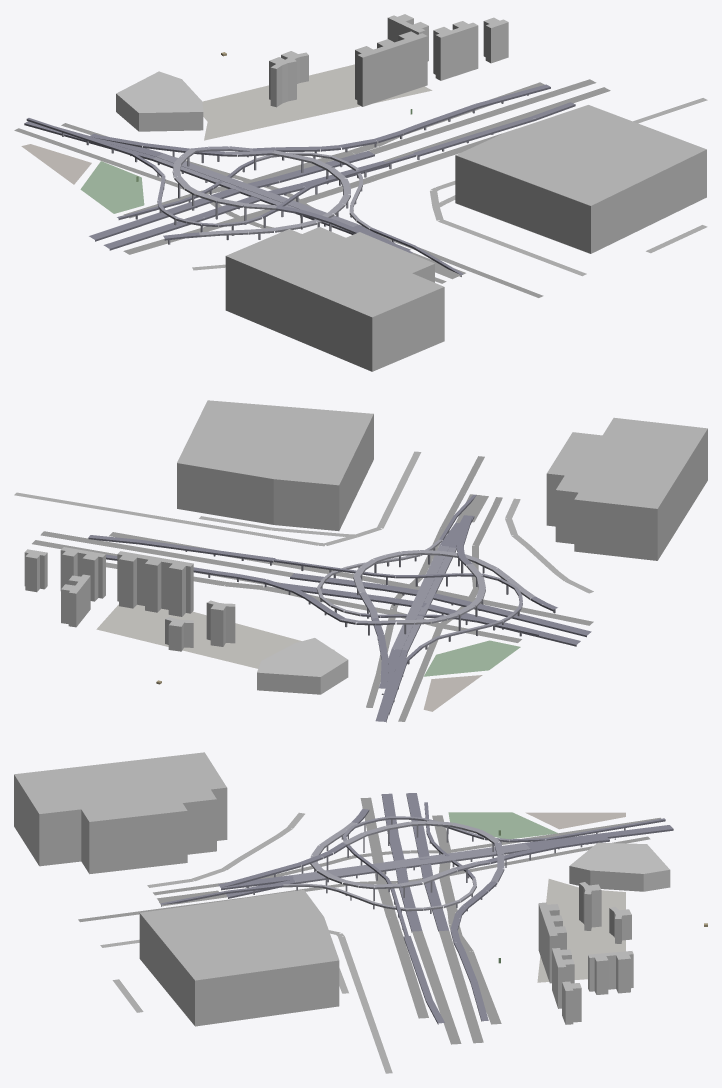
The picture shows the model from 3 angles, top to bottom: view 1: azimuth 30°, elevation 25°; view 2: azimuth 150°, elevation 25°; view 3: azimuth 270°, elevation 25°; orthographic projection. The views are drawn at different scales.
Size of the model in its own units: 660 by 59.83 by 687.
